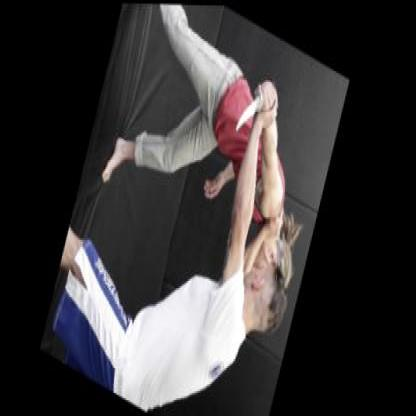knife: (233, 57, 282, 149)
